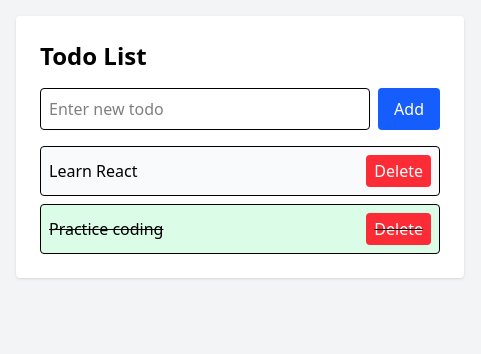
Test: TodoList Component Tests › adds a new todo
Type "New Todo" into the field with test id "todo-input" at (205, 109), box [40,88,370,130]
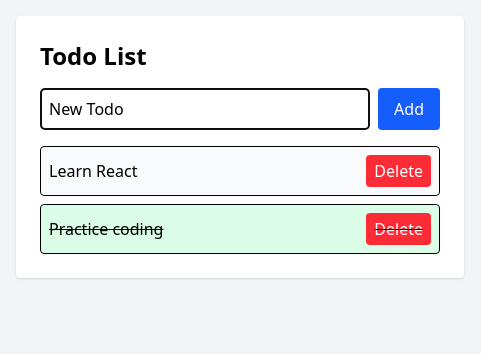
Click the button with test id "add-button" at (409, 109), box [378,88,440,130]
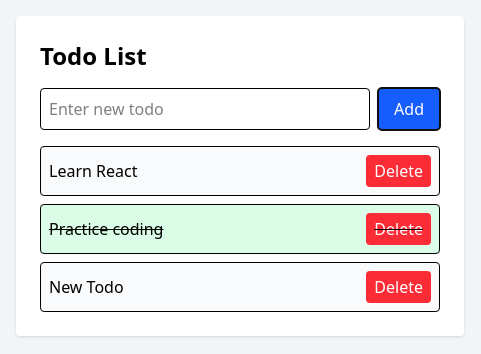
Expected: the text "New Todo" is shown, [49,275,124,299]
